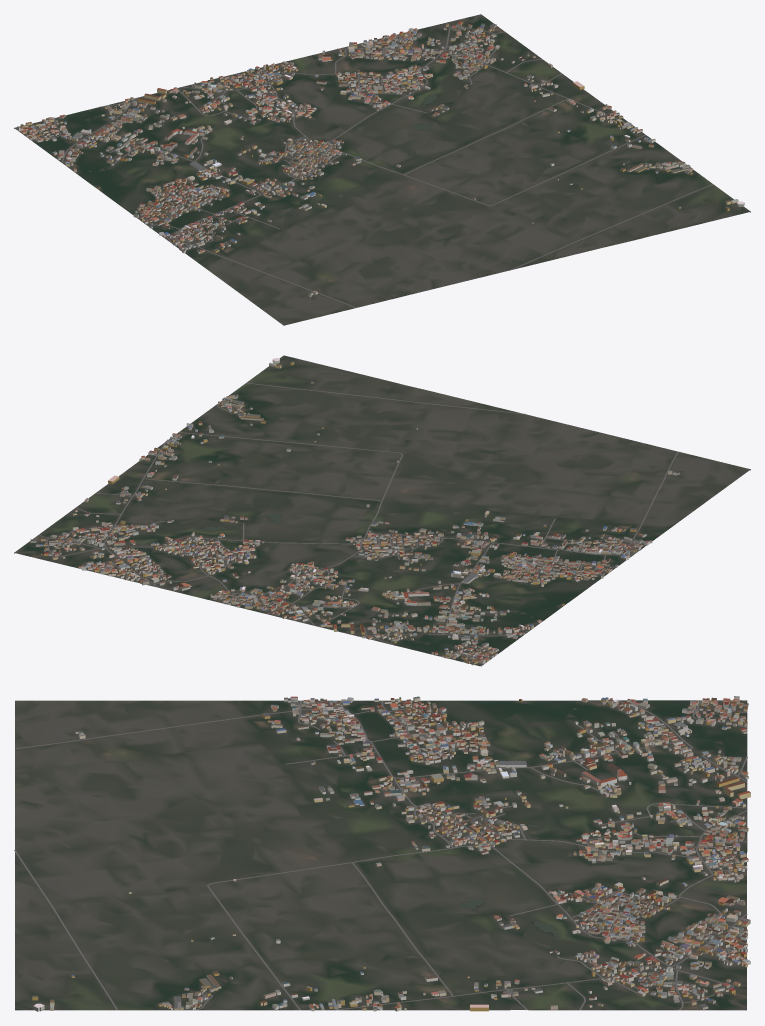
3 views of the same model, one above another, from view 1: azimuth 30°, elevation 25°; view 2: azimuth 150°, elevation 25°; view 3: azimuth 270°, elevation 25° (orthographic). The views are drawn at different scales.
Parts seen in each view (by area): view 1: ground, buildings, roads; view 2: ground, buildings, roads; view 3: ground, buildings, roads, water.
Boxes of the visible parts, x1=… form: ground: x1=14, y1=14, x2=750, y2=325; buildings: x1=17, y1=21, x2=744, y2=297; roads: x1=14, y1=26, x2=713, y2=307; ground: x1=14, y1=355, x2=750, y2=666; buildings: x1=30, y1=358, x2=679, y2=665; roads: x1=39, y1=382, x2=678, y2=666; ground: x1=15, y1=700, x2=747, y2=1010; buildings: x1=32, y1=696, x2=750, y2=1011; roads: x1=14, y1=700, x2=747, y2=1010; water: x1=461, y1=708, x2=722, y2=935.
Bounding box in the file's own units: 1411 × 15.21 × 1411.
